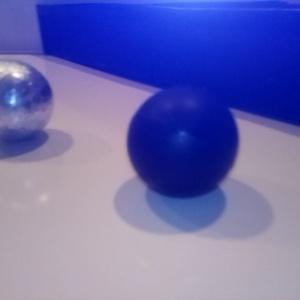alive_ball: (1, 58, 54, 143)
dead_ball: (126, 83, 240, 198)
